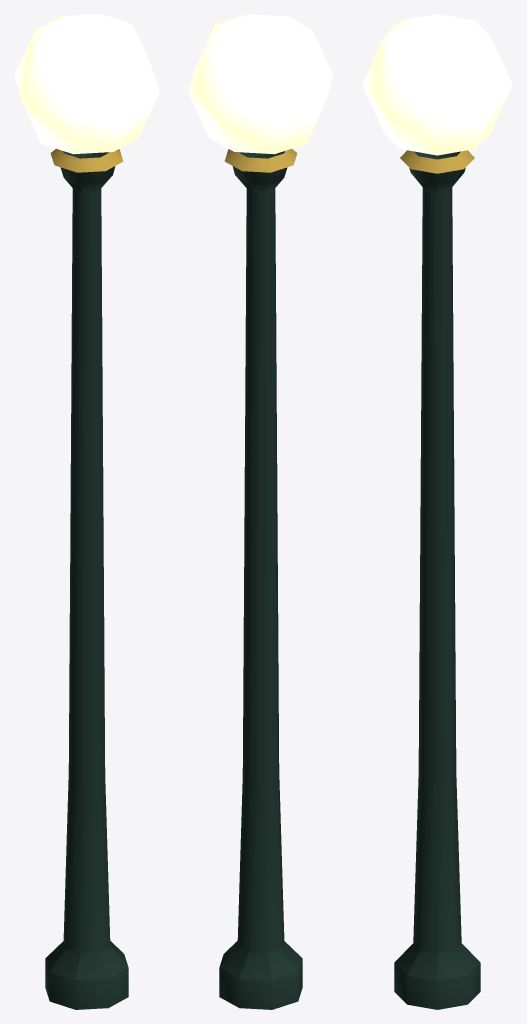
The model's file is tokyo_park_lamp.glb.
3 renders of one model, left to right at view 1: azimuth 30°, elevation 25°; view 2: azimuth 150°, elevation 25°; view 3: azimuth 270°, elevation 25°, orthographic.
Visible parts, largest first — view 1: tokyo_park_lamp; view 2: tokyo_park_lamp; view 3: tokyo_park_lamp.
Boxes of the visible parts, x1=… form: tokyo_park_lamp: x1=14, y1=14, x2=159, y2=1009; tokyo_park_lamp: x1=188, y1=14, x2=333, y2=1009; tokyo_park_lamp: x1=362, y1=14, x2=512, y2=1009.
Bounding box in the file's own units: 0.56 × 4 × 0.56.
1 material, 1 textured.
